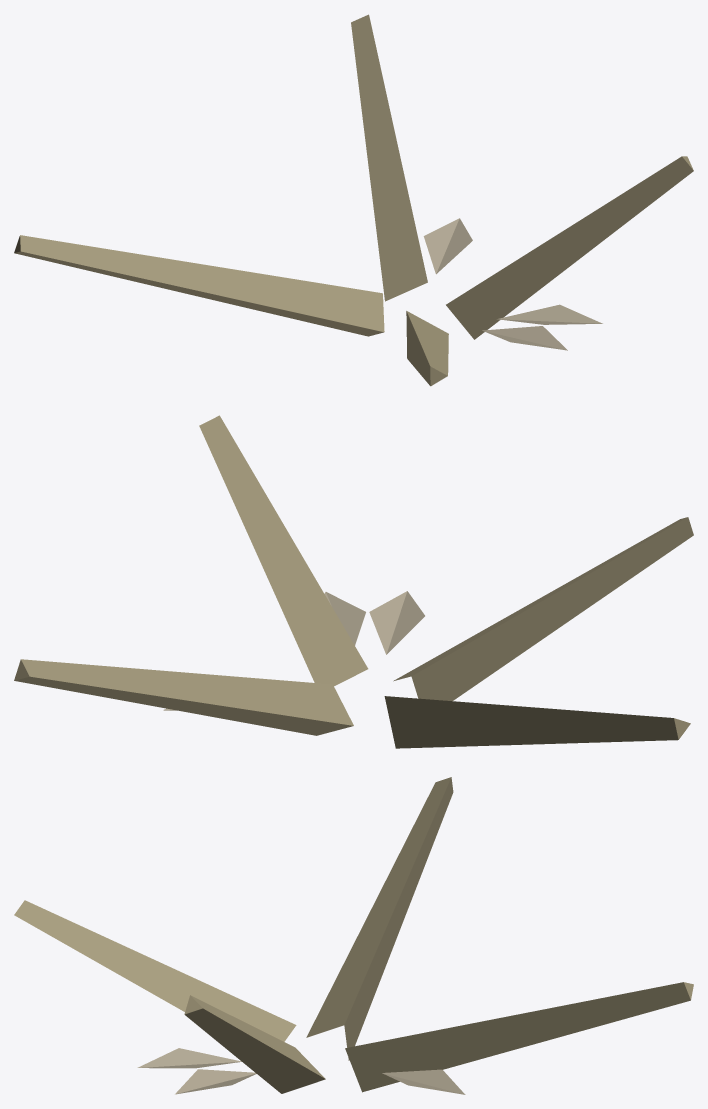
File: guan.huanglu@withered__summer.glb
3 renders of one model, top to bottom at view 1: azimuth 30°, elevation 25°; view 2: azimuth 150°, elevation 25°; view 3: azimuth 270°, elevation 25°, orthographic. The views are drawn at different scales.
Visible parts, largest first — view 1: guan.huanglu@withered__summer; view 2: guan.huanglu@withered__summer; view 3: guan.huanglu@withered__summer.
Boxes of the visible parts, box(x1,y1,x2,y2) form: guan.huanglu@withered__summer: box(14, 14, 693, 386); guan.huanglu@withered__summer: box(14, 415, 693, 748); guan.huanglu@withered__summer: box(14, 777, 693, 1094).
Bounding box in the file's own units: 1.34 × 0.4191 × 1.42.
